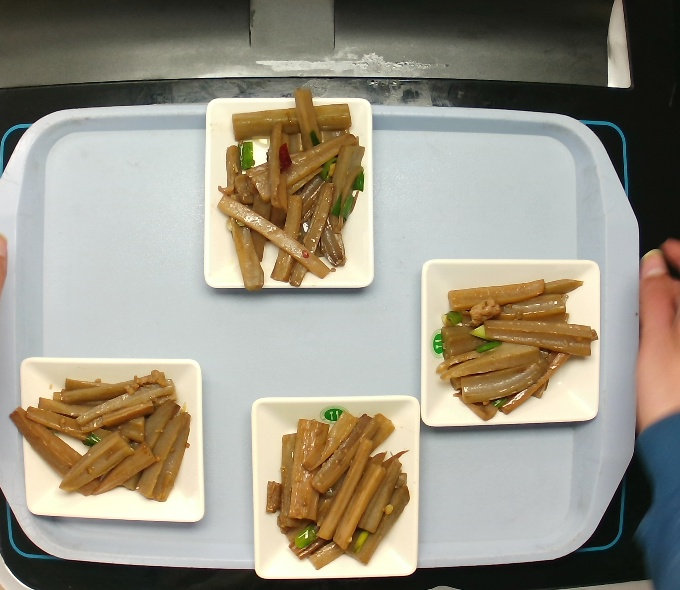wcq-QingChaoOuKuai: (7, 364, 197, 505), (216, 94, 357, 277), (429, 270, 601, 414), (264, 407, 413, 567)
